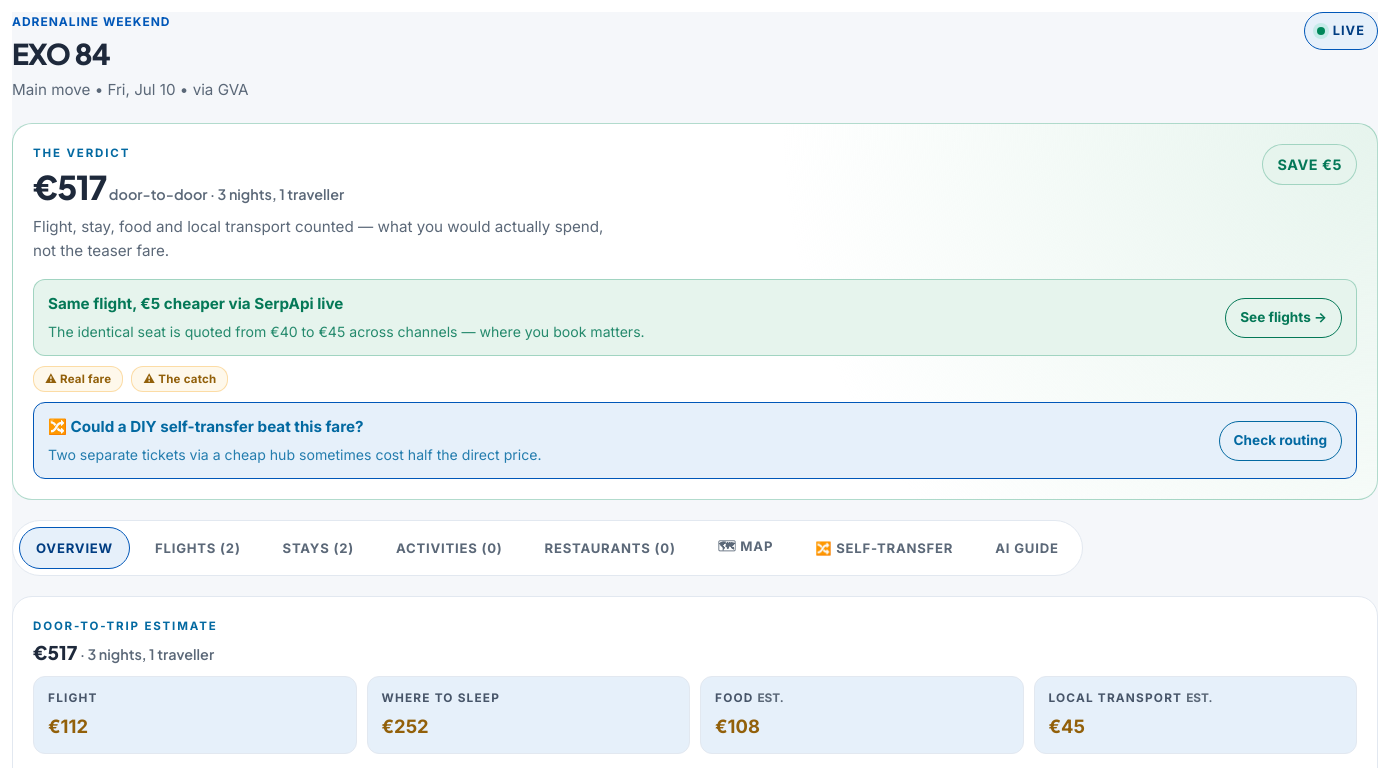
Test: TripExploreDashboard — verdict card › runs the self-transfer check in place and folds the saving into the verdict
Click the button "Check routing" at point(1280, 441), box x1=1219 y1=421 x2=1342 y2=461
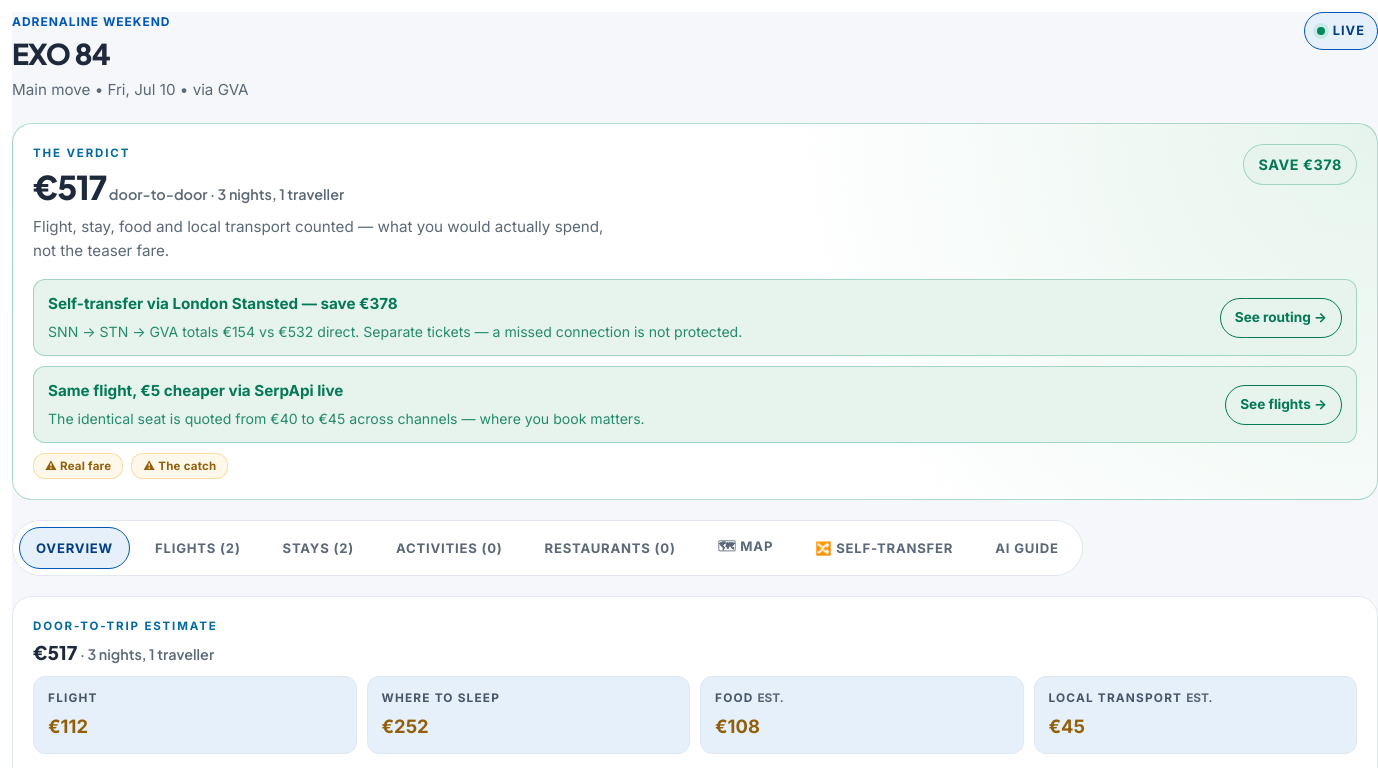
expect the text "Self-transfer via London Stansted — save €378" is shown: met, box x1=48 y1=294 x2=398 y2=313
